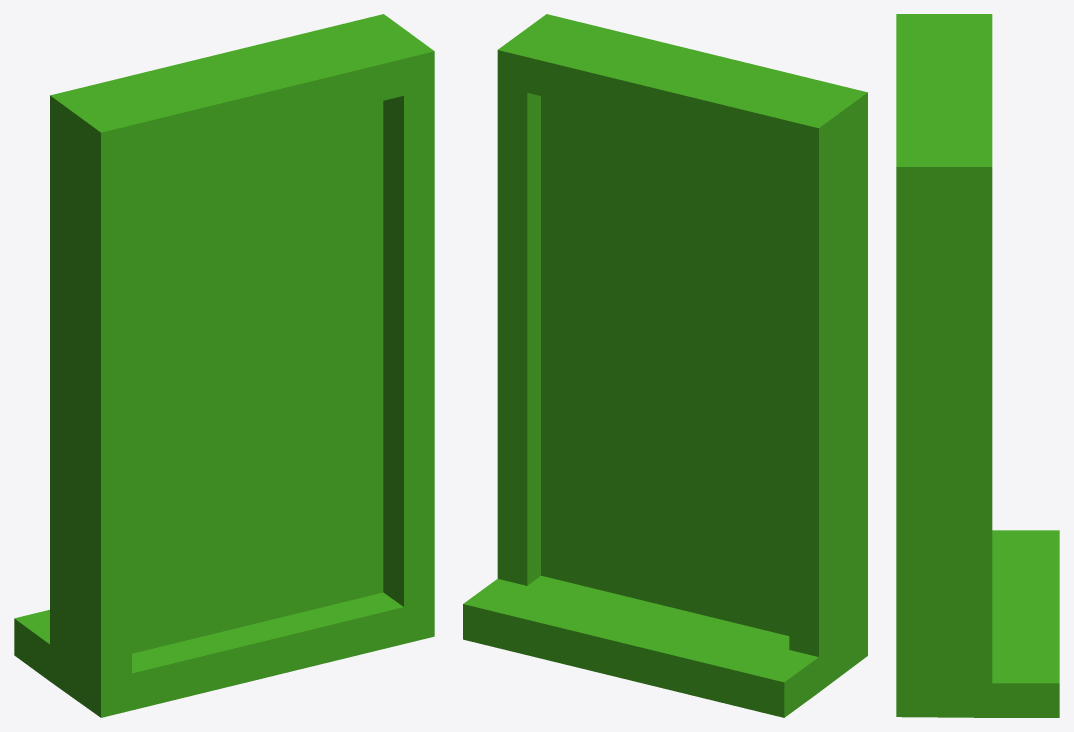
The model's file is szyba.fbx.
The picture shows the model from 3 angles, left to right: view 1: azimuth 30°, elevation 25°; view 2: azimuth 150°, elevation 25°; view 3: azimuth 270°, elevation 25°; orthographic projection. The views are drawn at different scales.
Visible parts, largest first — view 1: Box021, okno; view 2: Box021, okno; view 3: okno.
Boxes of the visible parts, <box> form: Box021: <box>132,101,383,653</box>; okno: <box>14,14,434,717</box>; Box021: <box>541,96,789,635</box>; okno: <box>463,14,867,717</box>; okno: <box>896,14,1059,717</box>.
Size of the model in its own units: 38.18 by 64.09 by 17.21.
